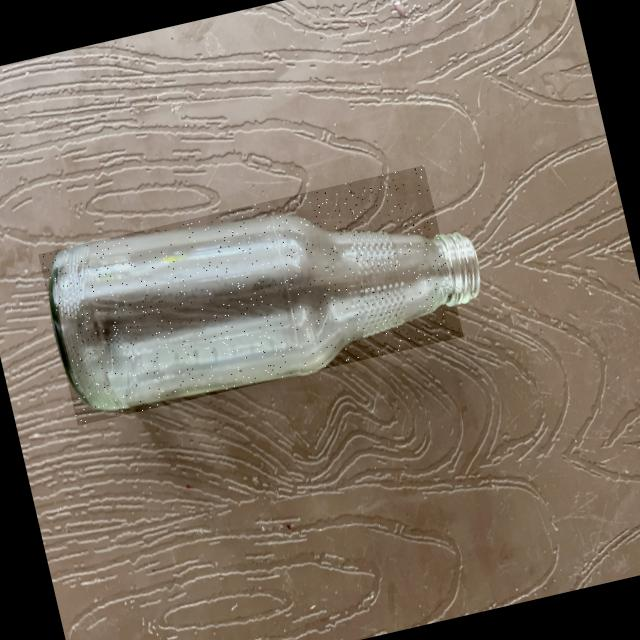PET_With_Liquid: (50, 217, 444, 409)
